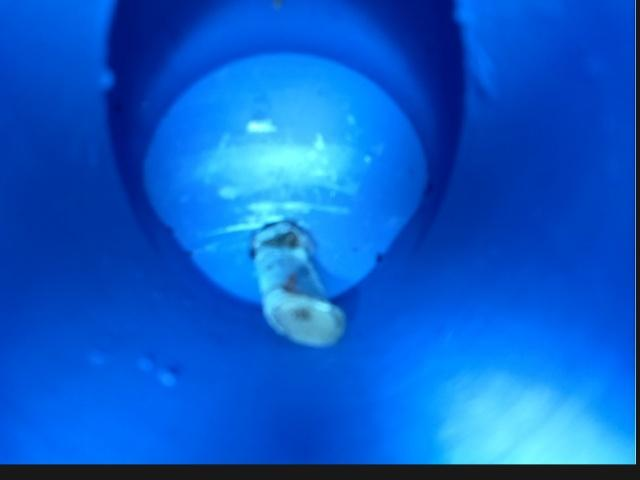megot: (238, 214, 355, 350)
